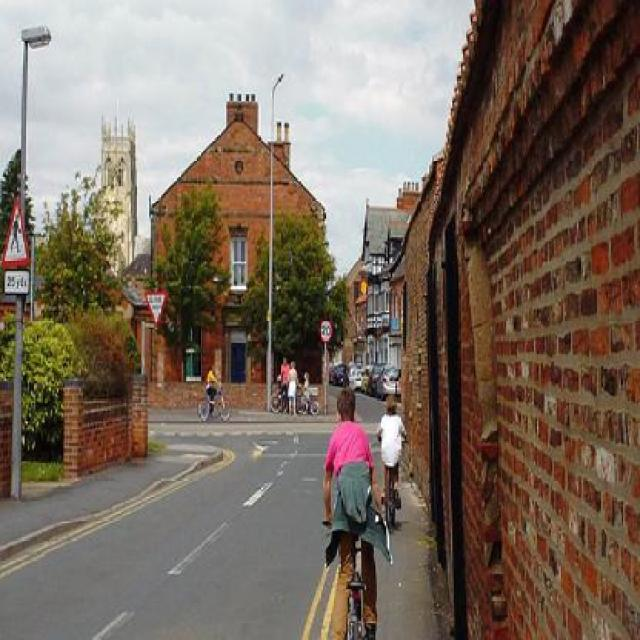Bicycle: (320, 388, 386, 638), (370, 389, 407, 531), (195, 360, 228, 426)
